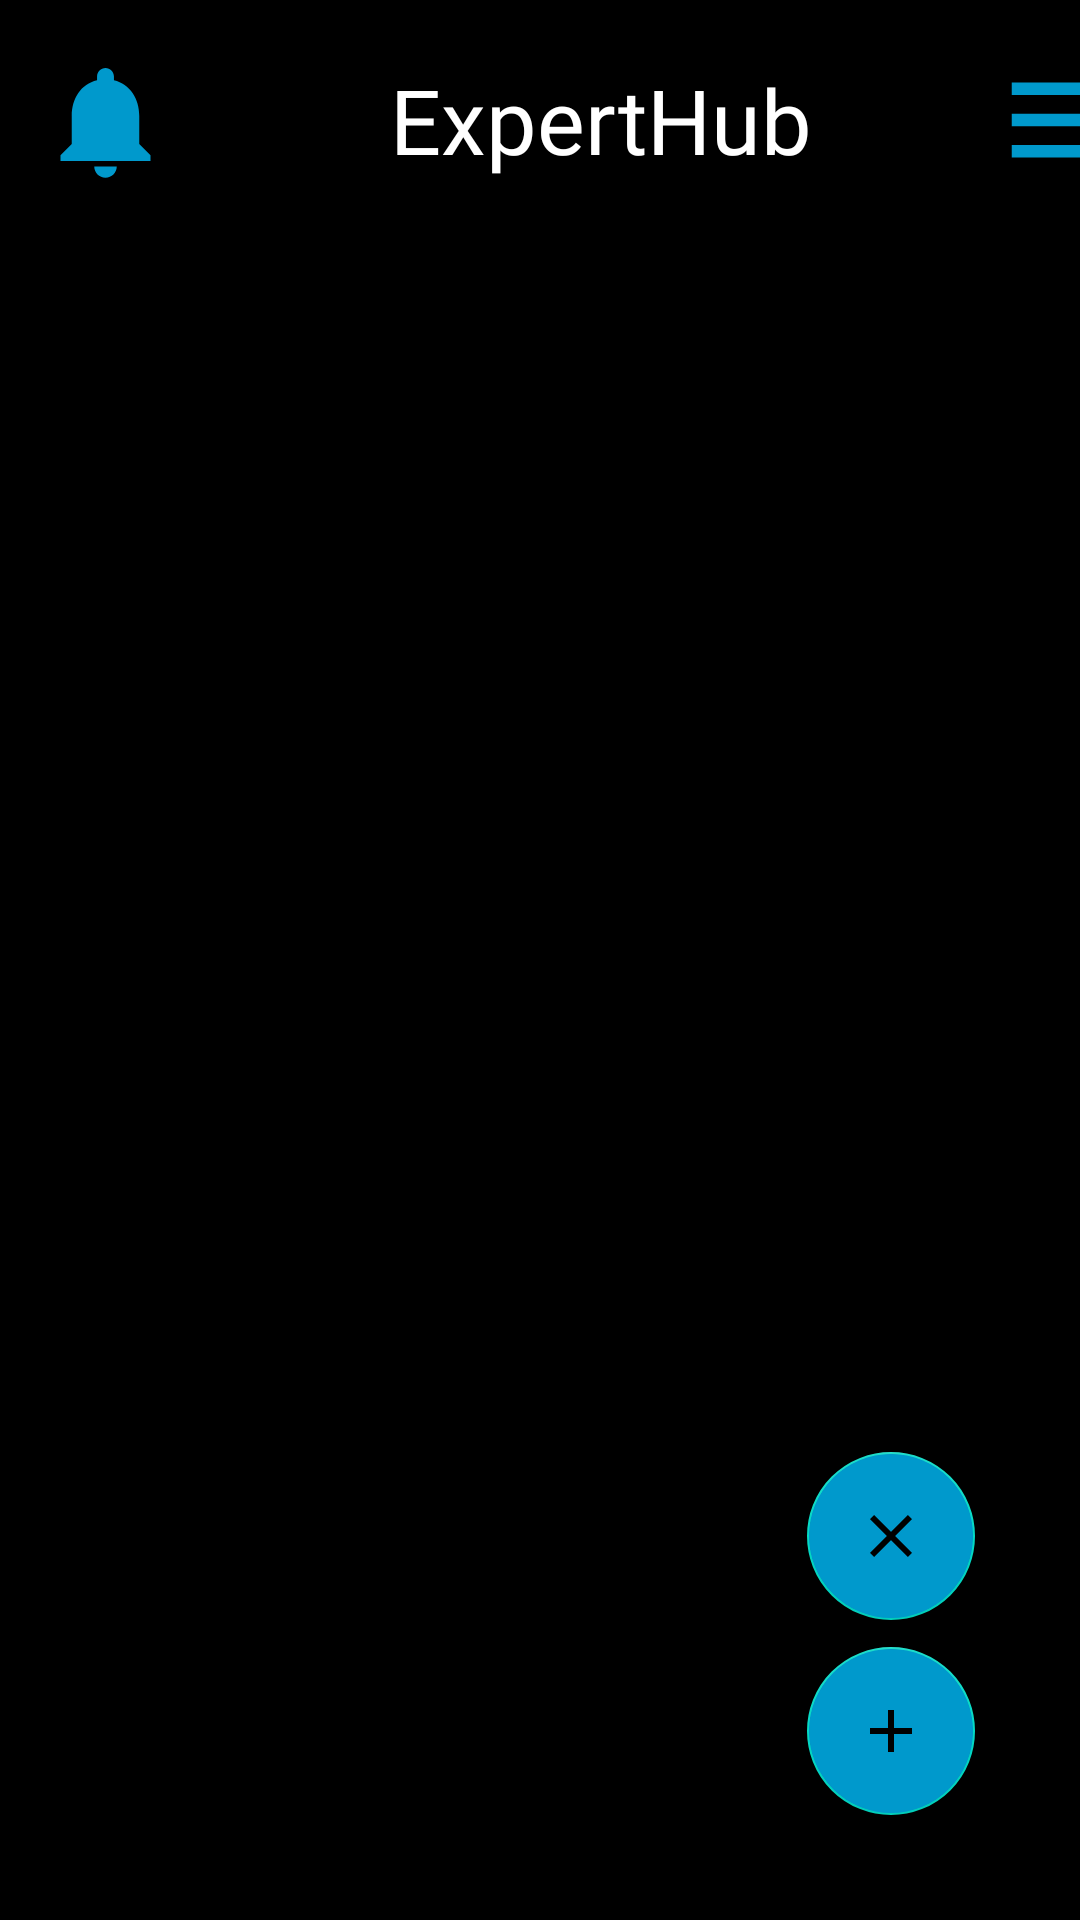

Named icons in this screenshot (1080*1920) and their bounding boxes, (x1, y1, x2, y2):
add: (807, 1647, 975, 1815)
close: (807, 1452, 975, 1620)
notifications: (60, 68, 151, 178)
